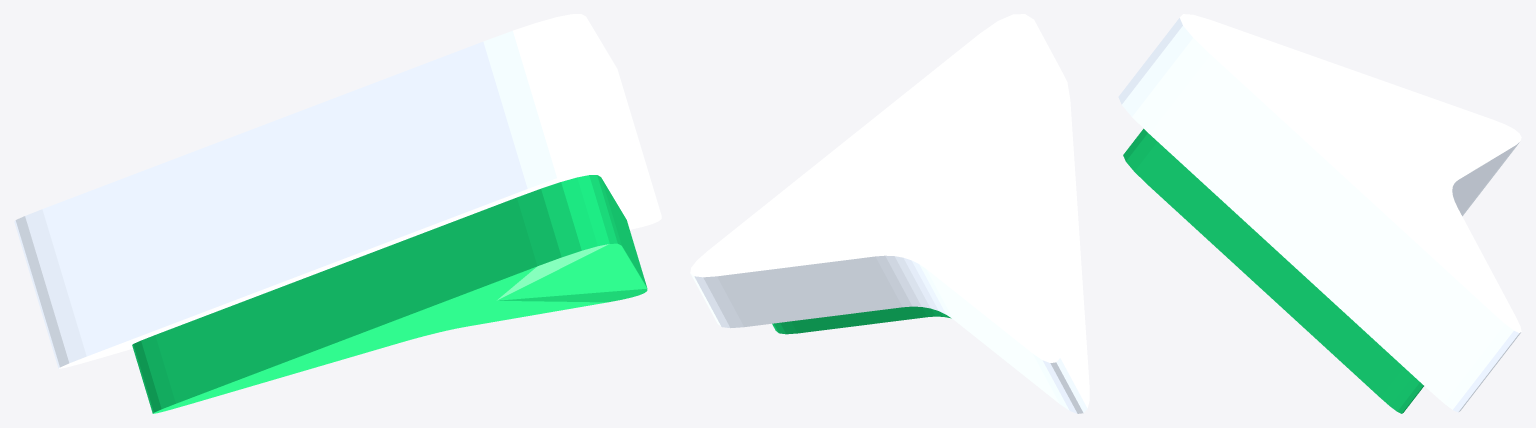
Rendered from green-arrow-v7.glb.
3 views of the same model, side by side, from view 1: azimuth 30°, elevation 25°; view 2: azimuth 150°, elevation 25°; view 3: azimuth 270°, elevation 25° (orthographic). The views are drawn at different scales.
Visible parts, largest first — view 1: convoyArrow; view 2: convoyArrow; view 3: convoyArrow.
Part boxes in pixels (x1,y1,x2,y2): convoyArrow: [14, 14, 661, 413]; convoyArrow: [690, 14, 1089, 413]; convoyArrow: [1118, 14, 1521, 413].
Size of the model in its own units: 1.34 by 0.977 by 1.13.
